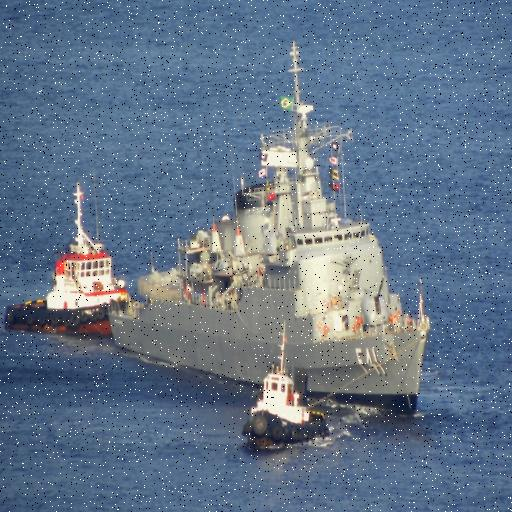Fragata: (103, 26, 441, 419)
